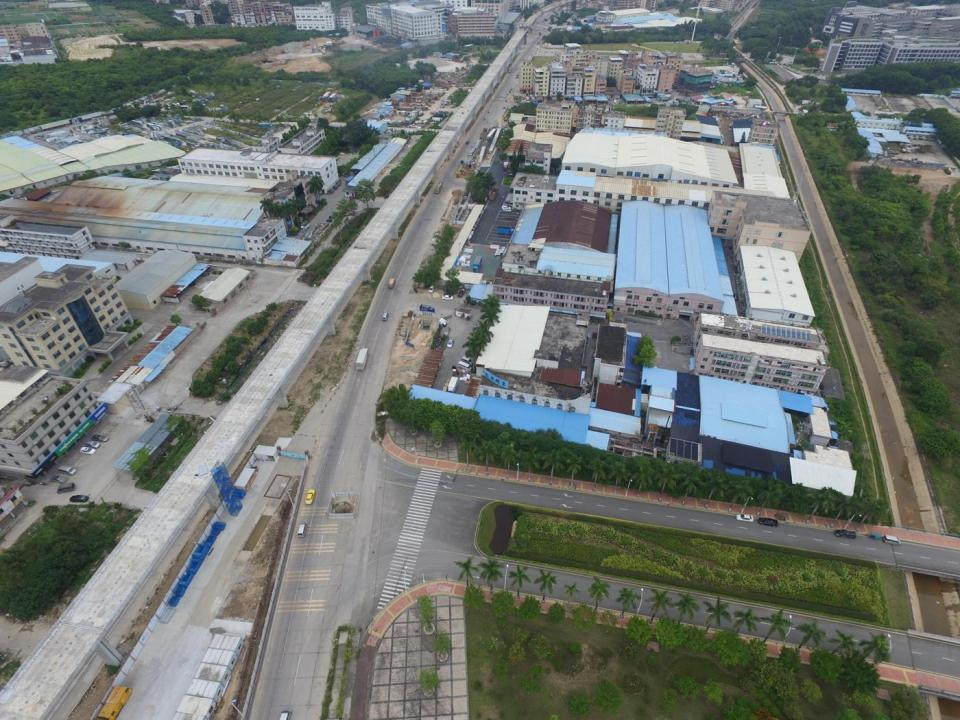bus: (434, 182, 444, 193), (508, 66, 512, 72)
car: (833, 528, 857, 539), (758, 516, 778, 528), (57, 482, 75, 494), (90, 434, 110, 444), (68, 494, 88, 504), (735, 513, 754, 523), (304, 489, 316, 504), (85, 439, 100, 450), (50, 474, 68, 483), (80, 446, 96, 456), (297, 523, 306, 538), (462, 356, 473, 365), (447, 337, 454, 349), (442, 294, 453, 301), (382, 312, 389, 321), (444, 326, 450, 335), (502, 207, 511, 213), (458, 290, 464, 298), (502, 204, 511, 209), (429, 285, 434, 293), (501, 205, 510, 209), (508, 173, 516, 177), (465, 140, 469, 144), (492, 97, 495, 102), (509, 88, 513, 91), (506, 91, 509, 94), (509, 90, 511, 93)
truck: (354, 347, 371, 371), (446, 375, 459, 394), (496, 225, 515, 236), (419, 303, 434, 316), (472, 255, 482, 273), (488, 186, 498, 201), (300, 220, 309, 233), (322, 90, 331, 101), (328, 92, 338, 101), (388, 278, 396, 289), (479, 127, 487, 138), (502, 161, 510, 170), (888, 149, 900, 155)
van: (882, 534, 902, 545), (58, 465, 77, 475), (276, 709, 292, 720), (457, 361, 472, 371)
